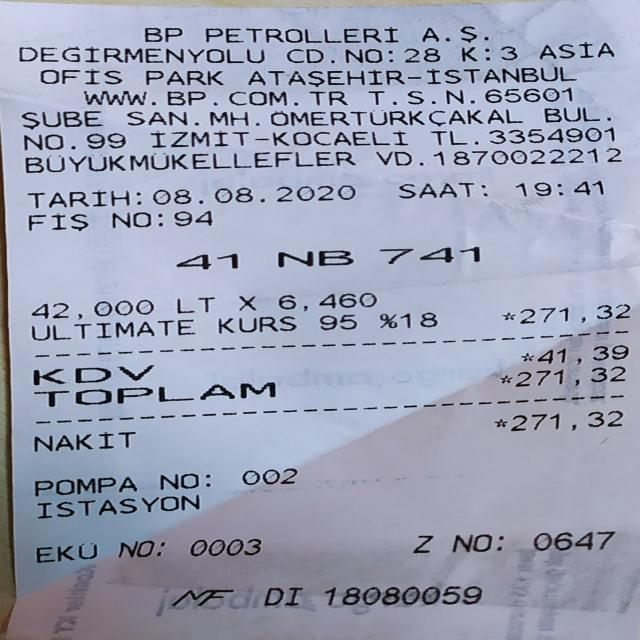text: (33, 381, 276, 408), (24, 152, 354, 171), (19, 43, 264, 66), (269, 106, 522, 127), (82, 88, 347, 106), (29, 493, 202, 519), (324, 582, 481, 610), (151, 184, 355, 204), (440, 146, 626, 167), (204, 24, 396, 43), (28, 320, 196, 340), (247, 66, 403, 86), (426, 65, 574, 86), (272, 127, 406, 149), (493, 125, 620, 146), (506, 410, 624, 430), (27, 364, 156, 382), (517, 304, 632, 324), (26, 187, 130, 209), (532, 342, 629, 365), (378, 244, 479, 266), (148, 129, 248, 151), (30, 475, 137, 495), (23, 131, 124, 152), (29, 431, 138, 450), (519, 366, 627, 385), (28, 300, 154, 316), (512, 176, 602, 198), (484, 84, 579, 104), (214, 314, 297, 336), (274, 246, 353, 269), (19, 108, 101, 130), (539, 40, 613, 64), (40, 66, 120, 88), (530, 530, 616, 550), (396, 179, 474, 201), (145, 66, 222, 88), (27, 542, 102, 563), (167, 586, 236, 608), (421, 24, 496, 44), (173, 249, 238, 272), (126, 107, 186, 130), (26, 210, 88, 232), (238, 466, 298, 488), (187, 537, 262, 554), (542, 104, 598, 126), (317, 310, 358, 334), (323, 290, 374, 309), (404, 40, 444, 64), (156, 470, 199, 492), (347, 41, 386, 65), (398, 308, 438, 331), (110, 208, 150, 230), (172, 206, 212, 228), (264, 584, 302, 607), (208, 107, 246, 129), (172, 295, 215, 314), (369, 90, 423, 105), (143, 24, 180, 44), (291, 41, 320, 66), (434, 125, 463, 148), (378, 147, 407, 170), (449, 532, 484, 551), (116, 540, 148, 558), (376, 308, 398, 332), (409, 533, 433, 552), (497, 367, 515, 390), (499, 304, 516, 328), (327, 41, 343, 66), (499, 40, 515, 65), (237, 293, 257, 313), (444, 88, 468, 104), (461, 40, 476, 65), (386, 41, 401, 65), (469, 125, 484, 148), (492, 413, 509, 433), (518, 347, 534, 367), (406, 65, 420, 87), (281, 292, 296, 311), (202, 468, 213, 492), (491, 531, 504, 551), (479, 177, 486, 201), (133, 185, 140, 208), (155, 207, 162, 230), (604, 103, 610, 126), (484, 40, 488, 65), (192, 106, 196, 130), (418, 157, 425, 170), (254, 106, 257, 129)
